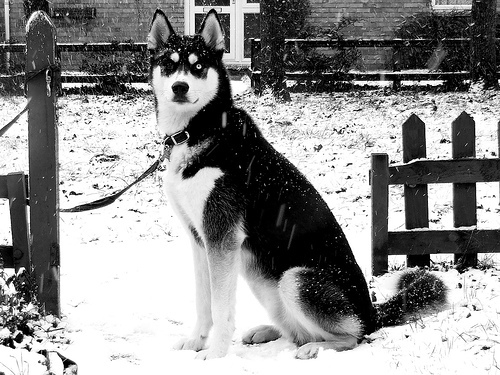dog: (148, 7, 447, 360)
